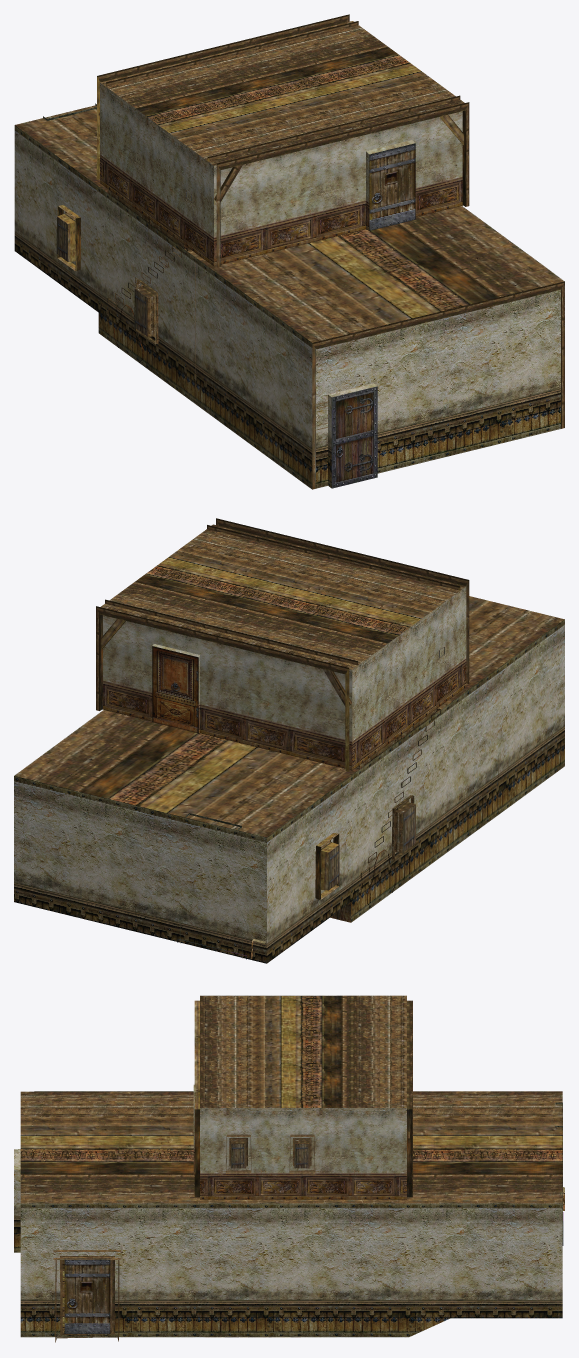
3 renders of one model, top to bottom at view 1: azimuth 30°, elevation 25°; view 2: azimuth 150°, elevation 25°; view 3: azimuth 270°, elevation 25°, orthographic. The views are drawn at different scales.
Parts seen in each view (by area): view 1: TN2_H_IN; view 2: TN2_H_IN; view 3: TN2_H_IN.
Boxes of the visible parts, bbox=[...] form: TN2_H_IN: bbox=[14, 14, 564, 489]; TN2_H_IN: bbox=[14, 518, 564, 963]; TN2_H_IN: bbox=[14, 995, 564, 1342].
Size of the model in its own units: 7.43 by 6.83 by 14.34.
31 materials, 31 textured.
